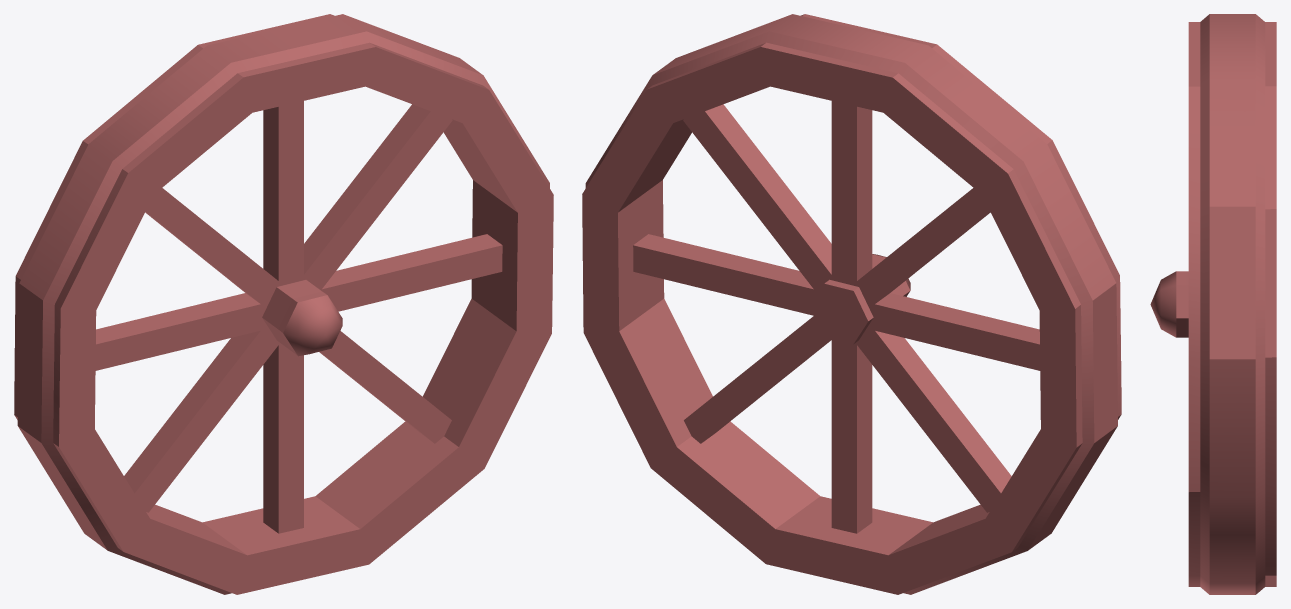
File: Wheel.fbx
3 renders of one model, left to right at view 1: azimuth 30°, elevation 25°; view 2: azimuth 150°, elevation 25°; view 3: azimuth 270°, elevation 25°, orthographic. The views are drawn at different scales.
Visible parts, largest first — view 1: Wheel1; view 2: Wheel1; view 3: Wheel1.
Part boxes in pixels (bbox=[...]): Wheel1: bbox=[14, 14, 553, 594]; Wheel1: bbox=[582, 14, 1121, 594]; Wheel1: bbox=[1150, 14, 1276, 594].
Size of the model in its own units: 85.82 by 85.82 by 18.9.
